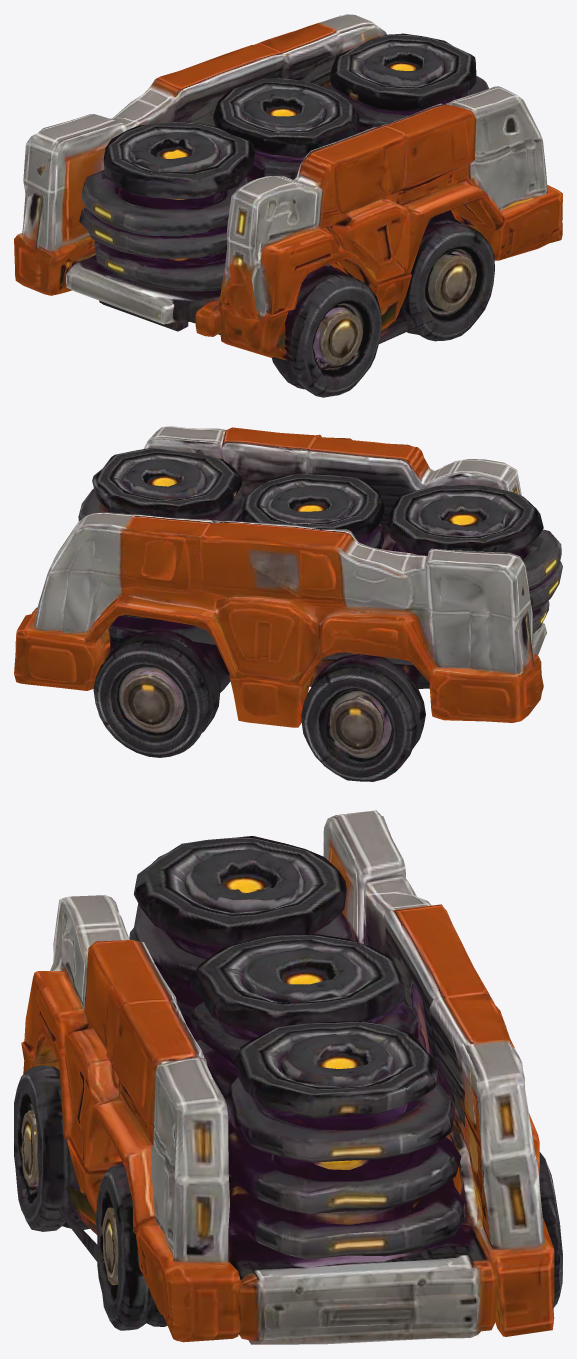
The model's file is model-normalized-identity-review.glb.
3 views of the same model, one above another, from view 1: azimuth 30°, elevation 25°; view 2: azimuth 150°, elevation 25°; view 3: azimuth 270°, elevation 25° (orthographic). The views are drawn at different scales.
Visible parts, largest first — view 1: chassis; view 2: chassis; view 3: chassis.
Boxes of the visible parts, box(x1,y1,x2,y2) form: chassis: box(14, 14, 562, 397); chassis: box(14, 426, 562, 781); chassis: box(14, 810, 562, 1344).
Size of the model in its own units: 0.99 by 0.4438 by 0.727.
Materials: 1 (1 with a texture image).
